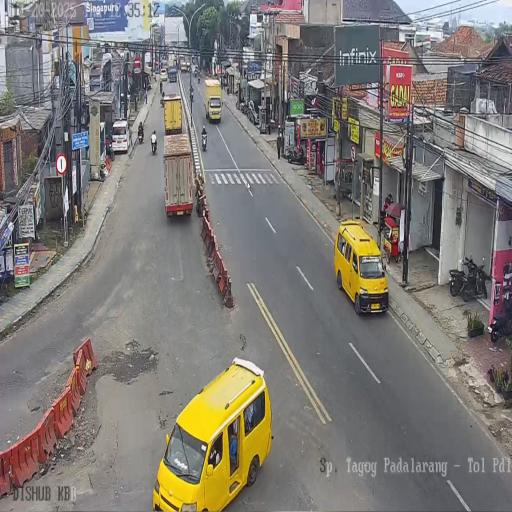car: (153, 356, 273, 508), (332, 218, 384, 315), (111, 119, 130, 154), (247, 100, 259, 124), (168, 66, 177, 83), (160, 67, 167, 82), (154, 66, 159, 74)
motorcycle: (460, 255, 488, 301), (489, 288, 512, 342), (284, 143, 306, 166), (240, 98, 249, 116), (201, 130, 208, 151), (151, 136, 157, 154), (138, 128, 144, 144), (189, 86, 194, 102), (160, 94, 165, 107), (159, 80, 162, 94), (197, 74, 200, 84)
truck: (163, 132, 194, 218), (203, 78, 223, 124), (162, 93, 182, 136), (144, 53, 152, 71), (180, 58, 188, 72), (172, 54, 178, 67)
